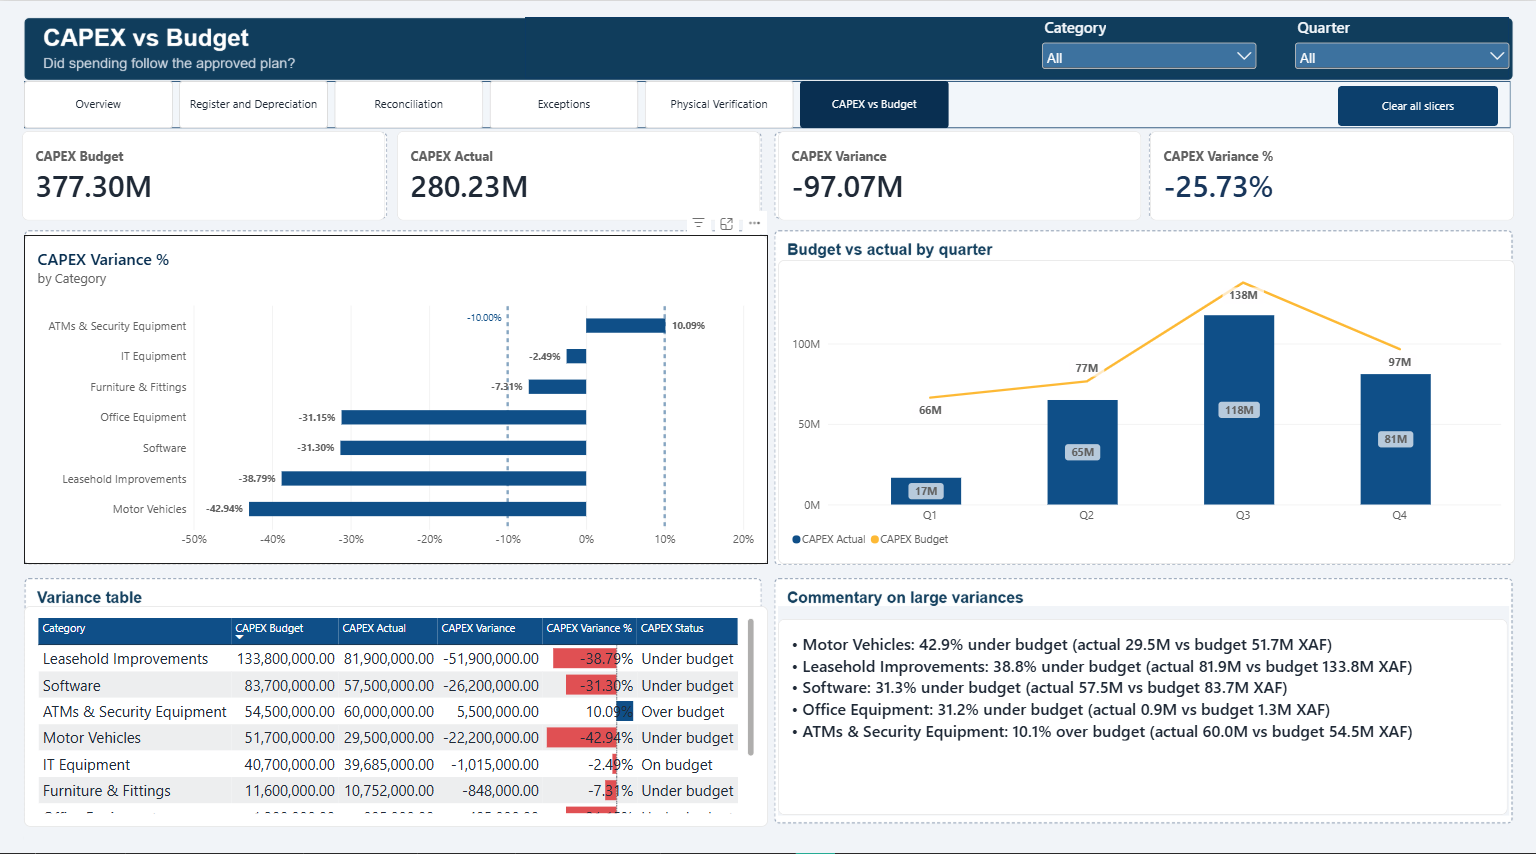

This screenshot's page, from the dashboard's own definition file:
{"tool":"powerbi","page":{"name":"CAPEX vs Budget","canvas":[1920,1080],"ordinal":5},"visuals":[{"type":"shape","box":[972,756,914,262],"z":0},{"type":"shape","box":[656.7,20,1230,76.7],"z":1000},{"type":"shape","box":[30,100,1858.3,59],"z":2000},{"type":"cardVisual","fields":{"Data":["DAX Measures.CAPEX Budget"]},"box":[28,162,454,112],"z":3000},{"type":"cardVisual","fields":{"Data":["DAX Measures.CAPEX Actual"]},"box":[496,162,454,112],"z":4000},{"type":"cardVisual","fields":{"Data":["DAX Measures.CAPEX Variance"]},"box":[972,162,454,112],"z":5000},{"type":"cardVisual","fields":{"Data":["DAX Measures.CAPEX Variance %"]},"box":[1437.5,162.5,455,112.5],"z":6000},{"type":"barChart","fields":{"Category":["tblPolicy.Category"],"Y":["DAX Measures.CAPEX Variance %"]},"box":[30,292,930,412],"z":7000},{"type":"lineStackedColumnComboChart","fields":{"Category":["DimDate.Quarter"],"Y":["DAX Measures.CAPEX Actual"],"Y2":["DAX Measures.CAPEX Budget"]},"box":[972.9,324.3,921.4,380],"z":8000},{"type":"tableEx","fields":{"Values":["tblPolicy.Category","DAX Measures.CAPEX Budget","DAX Measures.CAPEX Actual","DAX Measures.CAPEX Variance","DAX Measures.CAPEX Variance %","DAX Measures.CAPEX Status"]},"box":[30,756,930,276],"z":9000},{"type":"slicer","fields":{"Values":["tblPolicy.Category"]},"box":[1298,20,277.5,65],"z":10000},{"type":"slicer","fields":{"Values":["qCAPEX_Analysis.Quarter"]},"box":[1614,20,277.5,65],"z":11000},{"type":"pageNavigator","box":[30,100,1158,59],"z":12000},{"type":"shape","box":[30,1036,1856,30],"z":13000},{"type":"actionButton","box":[1672,106,200,50],"z":14000},{"type":"cardVisual","fields":{"Data":["DAX Measures.CAPEX Commentary"]},"box":[972.5,772.5,912.5,245],"z":15000}]}

Visuals, with their boxes in screenshot pixels (x1, y1, x2, y2), scaled from the page's 1920x1080 canvas onto the 1536x854 screenshot:
shape: (left=778, top=598, right=1509, bottom=805)
shape: (left=525, top=16, right=1509, bottom=76)
shape: (left=24, top=79, right=1511, bottom=126)
cardVisual - DAX Measures.CAPEX Budget: (left=22, top=128, right=386, bottom=217)
cardVisual - DAX Measures.CAPEX Actual: (left=397, top=128, right=760, bottom=217)
cardVisual - DAX Measures.CAPEX Variance: (left=778, top=128, right=1141, bottom=217)
cardVisual - DAX Measures.CAPEX Variance %: (left=1150, top=128, right=1514, bottom=217)
barChart - tblPolicy.Category x DAX Measures.CAPEX Variance %: (left=24, top=231, right=768, bottom=557)
lineStackedColumnComboChart - DimDate.Quarter x DAX Measures.CAPEX Actual: (left=778, top=256, right=1515, bottom=557)
tableEx - tblPolicy.Category x DAX Measures.CAPEX Budget: (left=24, top=598, right=768, bottom=816)
slicer - tblPolicy.Category: (left=1038, top=16, right=1260, bottom=67)
slicer - qCAPEX_Analysis.Quarter: (left=1291, top=16, right=1513, bottom=67)
pageNavigator: (left=24, top=79, right=950, bottom=126)
shape: (left=24, top=819, right=1509, bottom=843)
actionButton: (left=1338, top=84, right=1498, bottom=123)
cardVisual - DAX Measures.CAPEX Commentary: (left=778, top=611, right=1508, bottom=805)
